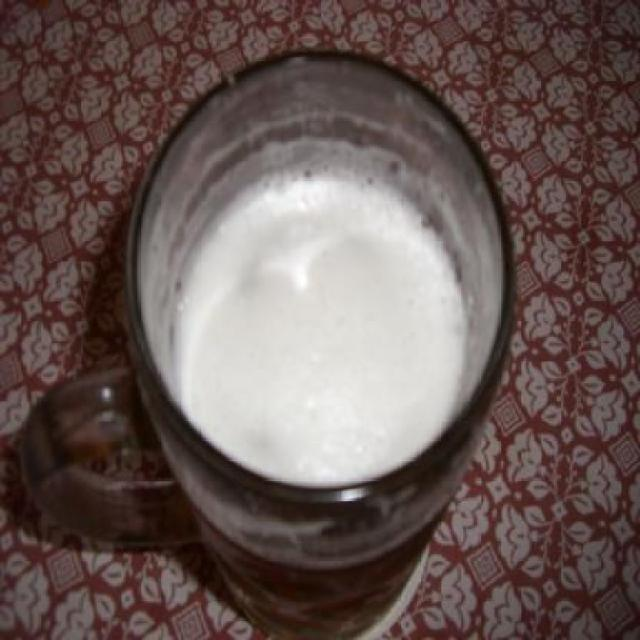Milk: (174, 154, 470, 490)
